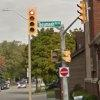Traffic light: (17, 0, 47, 38)
